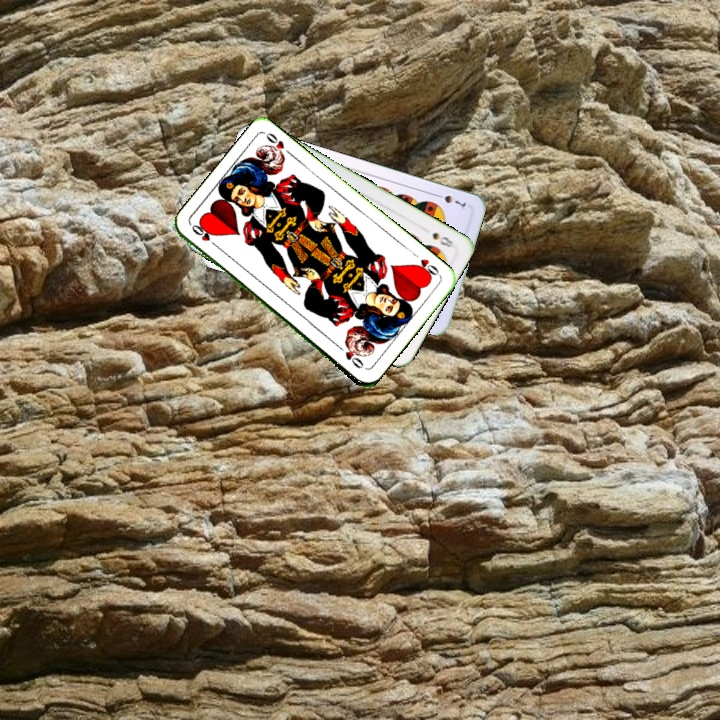HO: (409, 248, 443, 281), (187, 221, 222, 251)
S7: (431, 190, 468, 212)
S8: (428, 228, 456, 250)
